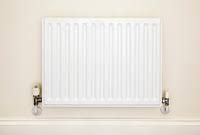Radiator: (31, 16, 172, 113)
